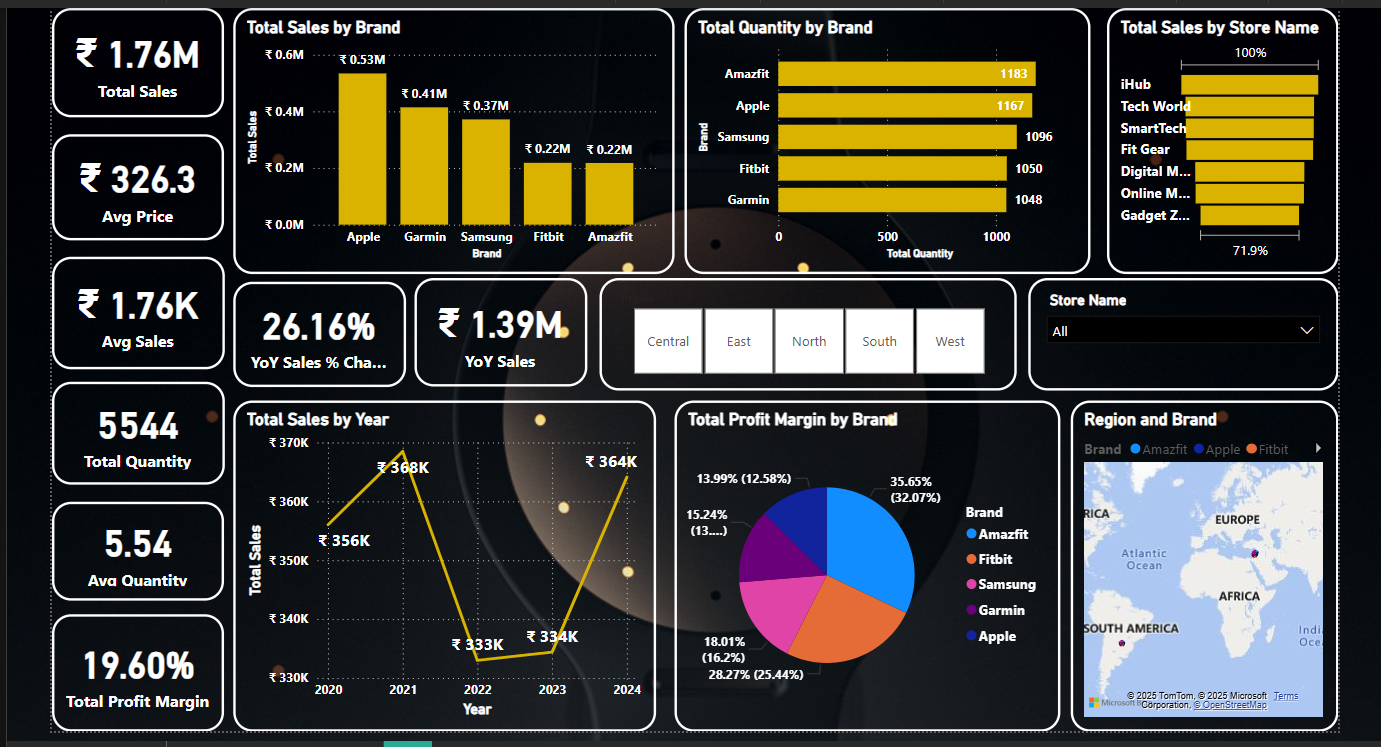

The page's visual inventory and layout, read from the dashboard file:
{"tool":"powerbi","page":{"name":"Smart Watch DashBoard","canvas":[1280,720],"ordinal":0},"visuals":[{"type":"card","fields":{"Values":["Measure Table.Total Sales"]},"box":[0,0,171.5,108.4],"z":1},{"type":"card","fields":{"Values":["Measure Table.Avg Price"]},"box":[0,126.2,171.5,105.7],"z":2},{"type":"card","fields":{"Values":["Measure Table.Avg Sales"]},"box":[0,247.5,171.7,112],"z":3},{"type":"card","fields":{"Values":["Measure Table.Total Quantity"]},"box":[0,371.9,171.7,102],"z":4},{"type":"card","fields":{"Values":["Measure Table.Avg Quantity"]},"box":[0,491.3,171.5,98.8],"z":5},{"type":"card","fields":{"Values":["Measure Table.Total Profit Margin"]},"box":[0,603.8,171.5,116.6],"z":6},{"type":"card","fields":{"Values":["Measure Table.YoY Sales"]},"box":[360.7,268.7,171.7,108.2],"z":7},{"type":"card","fields":{"Values":["Measure Table.YoY Sales % Change"]},"box":[180.4,272.4,171.7,104.5],"z":8},{"type":"lineChart","fields":{"Category":["Date Table.Year","Date Table.Quarter","Date Table.Month"],"Y":["Measure Table.Total Sales"]},"box":[180.4,390.6,420.5,329.6],"z":9},{"type":"columnChart","fields":{"Y":["Measure Table.Total Sales"],"Category":["smartwatch_sales_dataset_5years.Brand"]},"box":[180.4,0,439.1,265],"z":10},{"type":"clusteredBarChart","fields":{"Y":["Measure Table.Total Quantity"],"Category":["smartwatch_sales_dataset_5years.Brand"]},"box":[629.4,0,404.3,265],"z":11},{"type":"funnel","fields":{"Category":["smartwatch_sales_dataset_5years.Store Name"],"Y":["Measure Table.Total Sales"]},"box":[1049.9,0,230.1,265],"z":12},{"type":"map","fields":{"Category":["smartwatch_sales_dataset_5years.Region"],"Series":["smartwatch_sales_dataset_5years.Brand"]},"box":[1013.8,390.6,266.2,329.6],"z":13},{"type":"pieChart","fields":{"Category":["smartwatch_sales_dataset_5years.Brand"],"Y":["Measure Table.Total Profit Margin"]},"box":[619.5,390.6,384.4,329.6],"z":14},{"type":"slicer","fields":{"Values":["smartwatch_sales_dataset_5years.Region"]},"box":[544.9,268.7,415.5,112],"z":15},{"type":"slicer","fields":{"Values":["smartwatch_sales_dataset_5years.Store Name"]},"box":[971.5,268.7,308.5,112],"z":16}]}

Visuals, with their boxes in screenshot pixels (x1, y1, x2, y2):
card - Measure Table.Total Sales: select_region(54, 7, 223, 114)
card - Measure Table.Avg Price: select_region(54, 132, 223, 236)
card - Measure Table.Avg Sales: select_region(54, 252, 224, 362)
card - Measure Table.Total Quantity: select_region(54, 375, 224, 476)
card - Measure Table.Avg Quantity: select_region(54, 493, 223, 590)
card - Measure Table.Total Profit Margin: select_region(54, 604, 223, 719)
card - Measure Table.YoY Sales: select_region(410, 273, 580, 380)
card - Measure Table.YoY Sales % Change: select_region(232, 276, 402, 380)
lineChart - Date Table.Year x Date Table.Quarter: select_region(232, 393, 648, 719)
columnChart - Measure Table.Total Sales x smartwatch_sales_dataset_5years.Brand: select_region(232, 7, 666, 269)
clusteredBarChart - Measure Table.Total Quantity x smartwatch_sales_dataset_5years.Brand: select_region(676, 7, 1076, 269)
funnel - smartwatch_sales_dataset_5years.Store Name x Measure Table.Total Sales: select_region(1092, 7, 1319, 269)
map - smartwatch_sales_dataset_5years.Region x smartwatch_sales_dataset_5years.Brand: select_region(1056, 393, 1319, 719)
pieChart - smartwatch_sales_dataset_5years.Brand x Measure Table.Total Profit Margin: select_region(666, 393, 1046, 719)
slicer - smartwatch_sales_dataset_5years.Region: select_region(592, 273, 1003, 383)
slicer - smartwatch_sales_dataset_5years.Store Name: select_region(1014, 273, 1319, 383)
